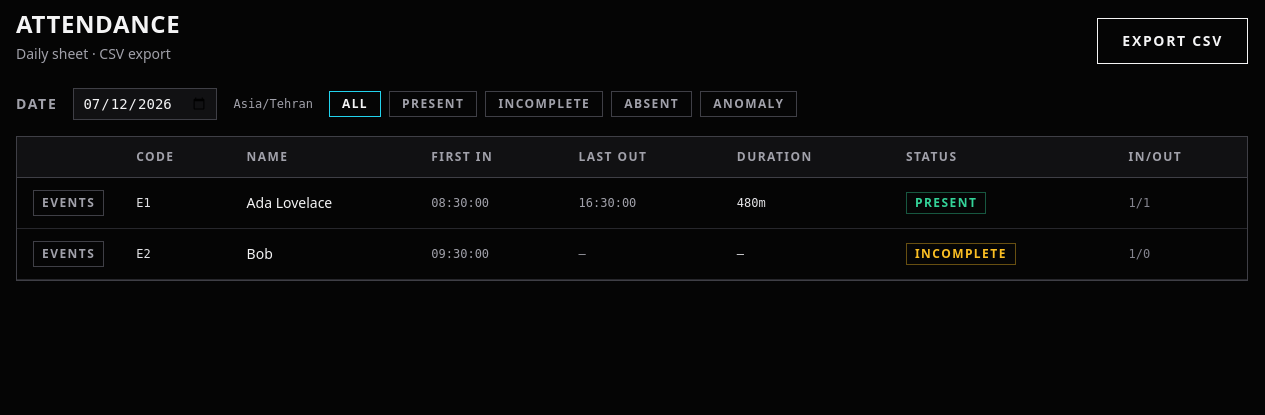
Scenario: Attendance explainability › formats event times in configured timezone
Expected: the text "Ada Lovelace" is shown, [231,178,415,228]
Step 1. Click the button with test id "expand-1" → click(69, 203), box [33,190,104,216]
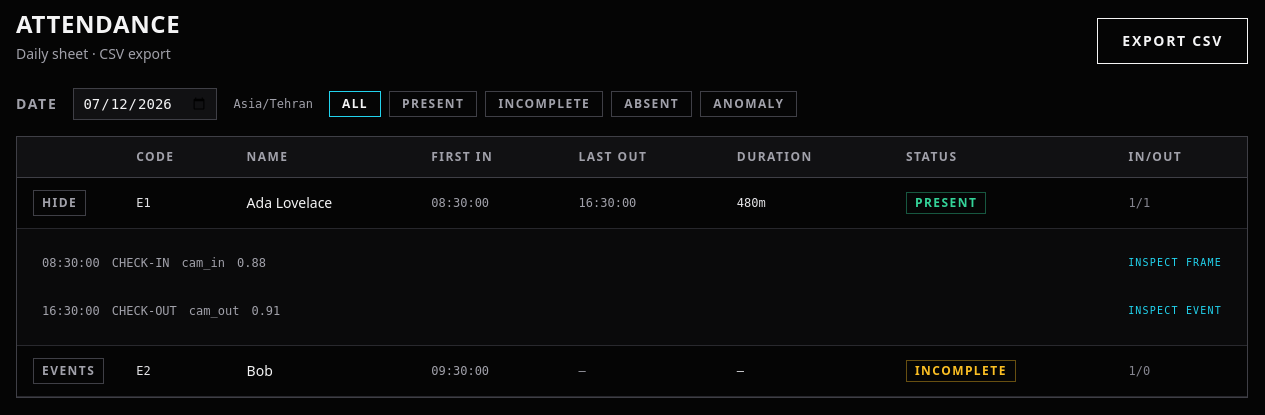
Now the text "08:30:00" is shown, box [42,255,100,271]
